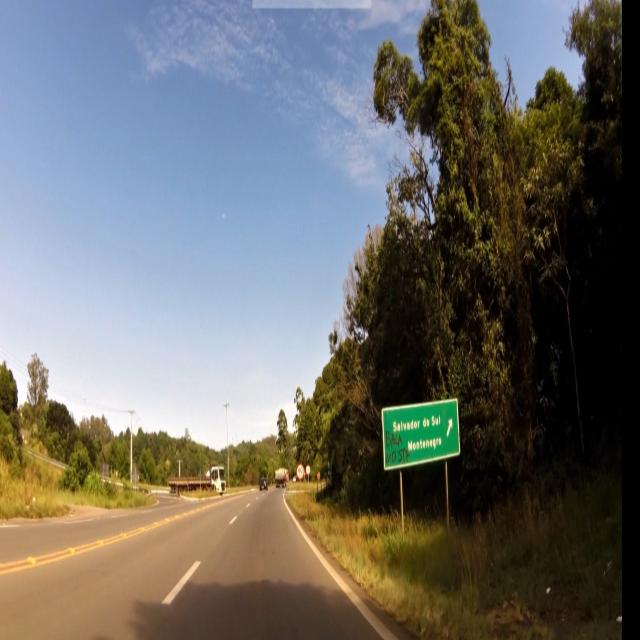I-4: (382, 403, 460, 460)
